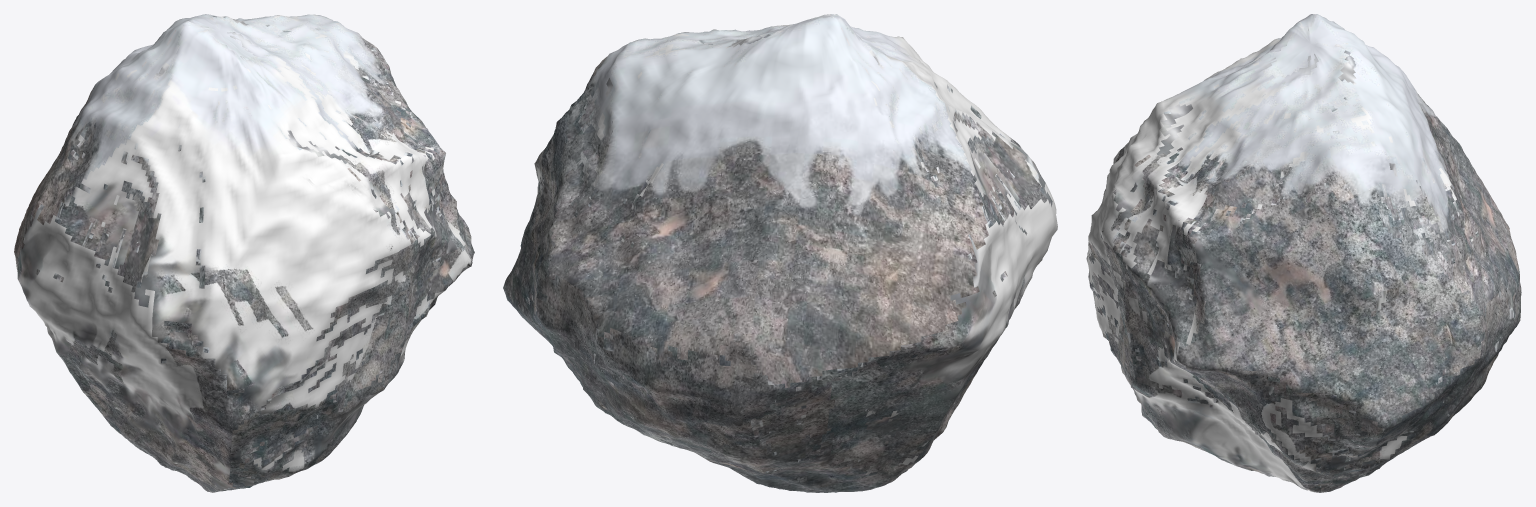
The model's file is Mountain1.fbx.
3 renders of one model, left to right at view 1: azimuth 30°, elevation 25°; view 2: azimuth 150°, elevation 25°; view 3: azimuth 270°, elevation 25°, orthographic. The views are drawn at different scales.
Parts seen in each view (by area): view 1: Landscape; view 2: Landscape; view 3: Landscape.
Boxes of the visible parts, x1,y1,x2,y2 form: Landscape: (14, 14, 474, 492); Landscape: (503, 14, 1057, 492); Landscape: (1086, 14, 1521, 492).
Size of the model in its own units: 313 by 322 by 287.
